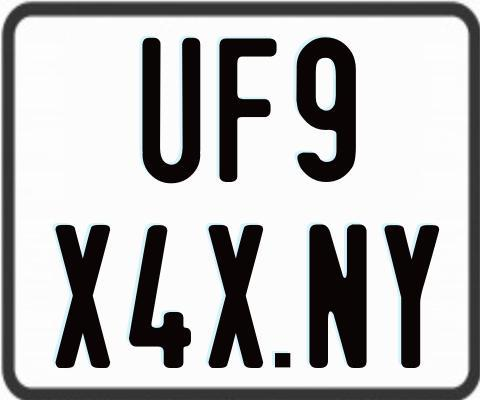4: (126, 225, 191, 372)
9: (293, 37, 353, 185)
F: (218, 35, 281, 181)
N: (306, 221, 365, 368)
U: (142, 36, 203, 187)
X: (207, 222, 266, 369), (56, 223, 112, 372)
Y: (381, 224, 441, 371)
